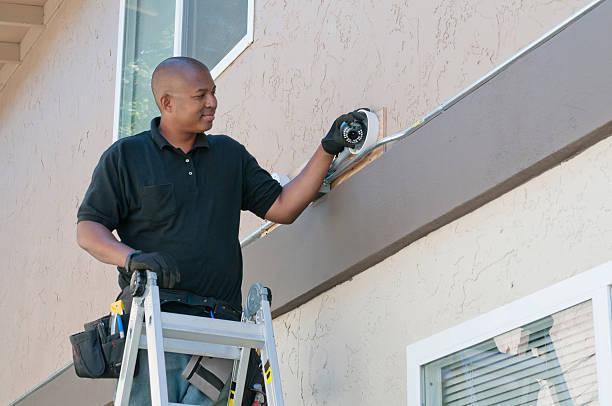camera: (321, 111, 387, 157)
